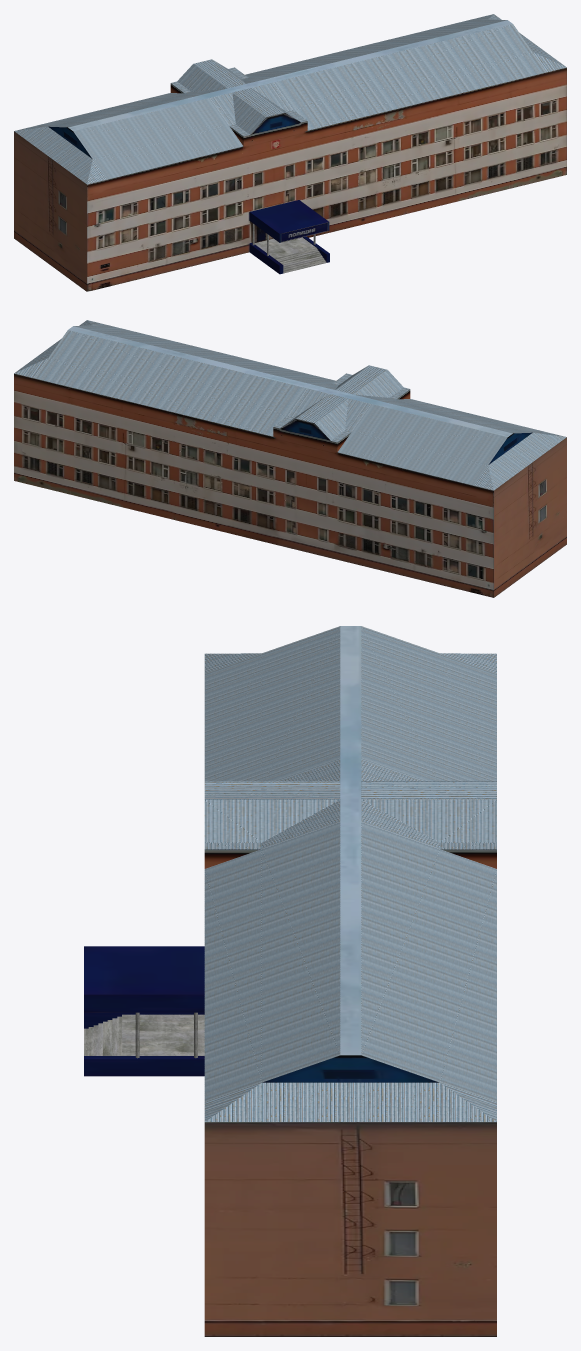
Rendered from police-m1.glb.
The picture shows the model from 3 angles, top to bottom: view 1: azimuth 30°, elevation 25°; view 2: azimuth 150°, elevation 25°; view 3: azimuth 270°, elevation 25°; orthographic projection. The views are drawn at different scales.
Parts seen in each view (by area): view 1: body_main_0, cover_cover_0, stolb_beton_0; view 2: body_main_0, cover_cover_0; view 3: cover_cover_0, body_main_0, stolb_beton_0.
Boxes of the visible parts, x1,y1,x2,y2 form: body_main_0: (14,67,566,291); cover_cover_0: (14,14,566,184); stolb_beton_0: (252,223,326,273); body_main_0: (14,373,566,597); cover_cover_0: (14,320,566,490); cover_cover_0: (204,626,496,1121); body_main_0: (84,849,496,1336); stolb_beton_0: (84,1012,204,1058).
Size of the model in its own units: 55 by 14.34 by 20.49.
3 materials, 3 textured.
